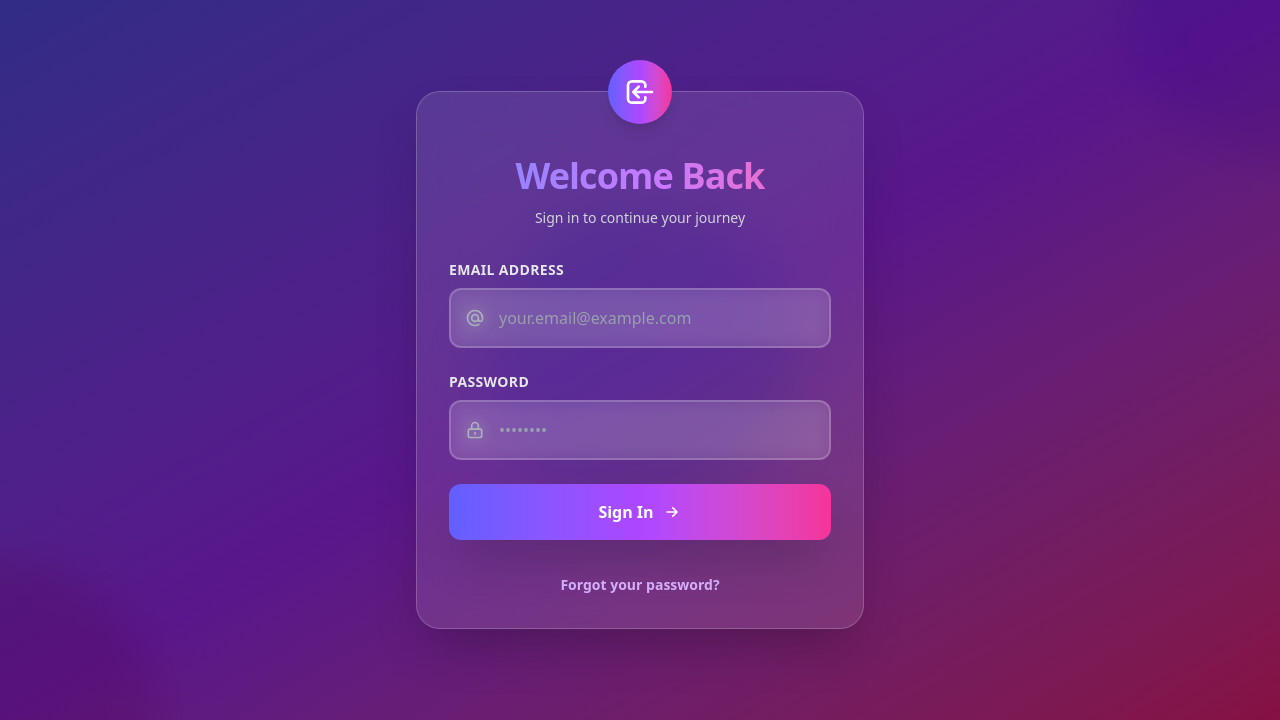
Test case: UserLogin Component › shows error message on API failure
Type "user@example.com" into the field labelled "Email Address" at (640, 318), box [449, 288, 831, 348]
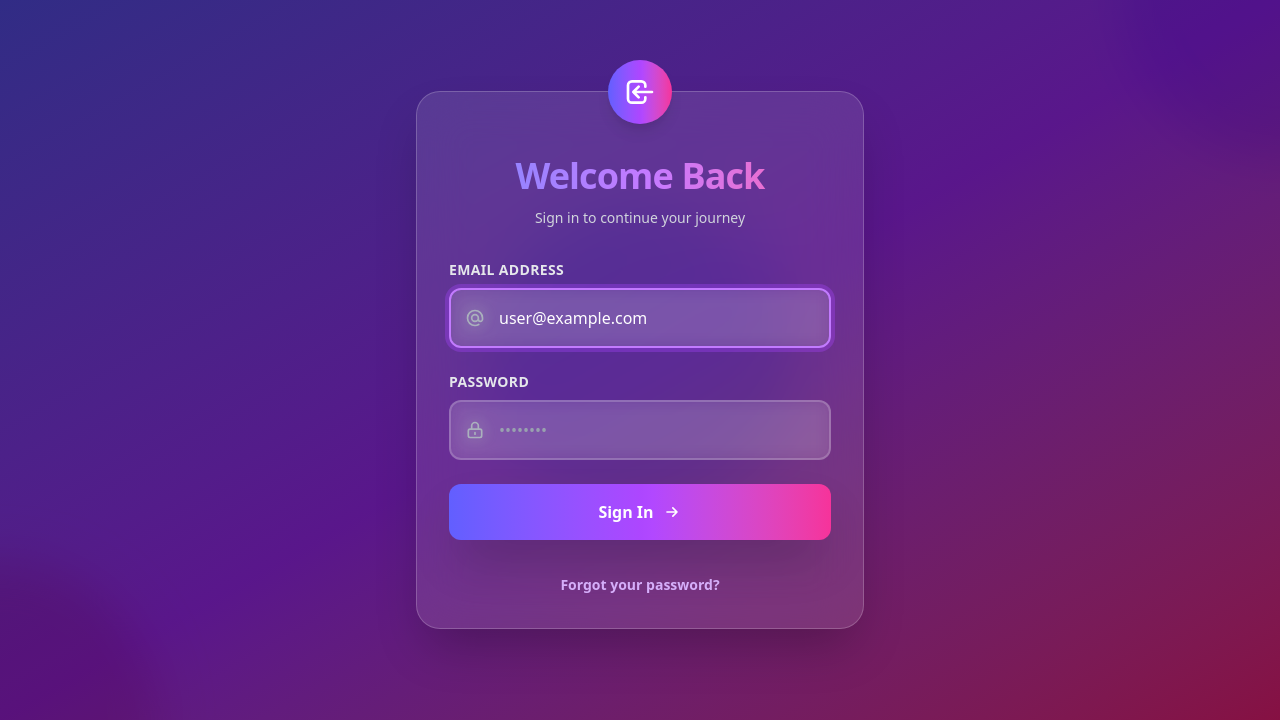
Type "wrongpassword" into the password field labelled "Password" at (640, 430), box [449, 400, 831, 460]
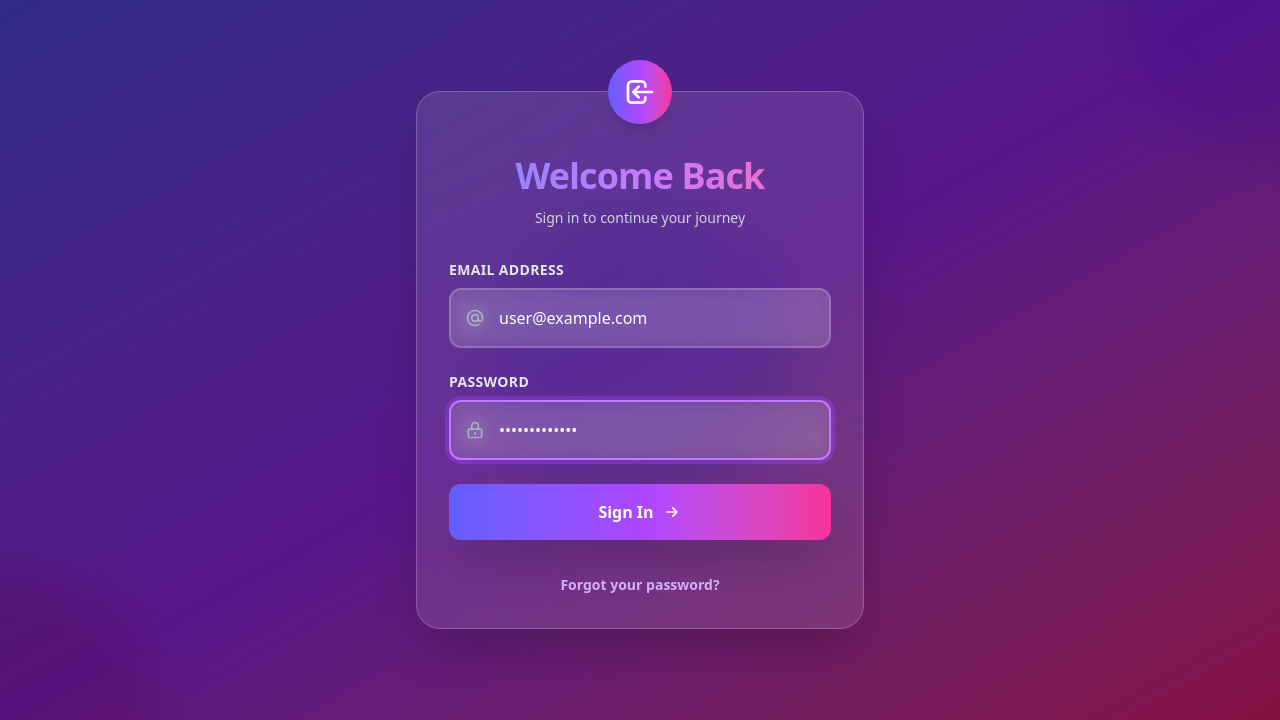
Click the button "Sign In" at (640, 512), box [449, 484, 831, 540]
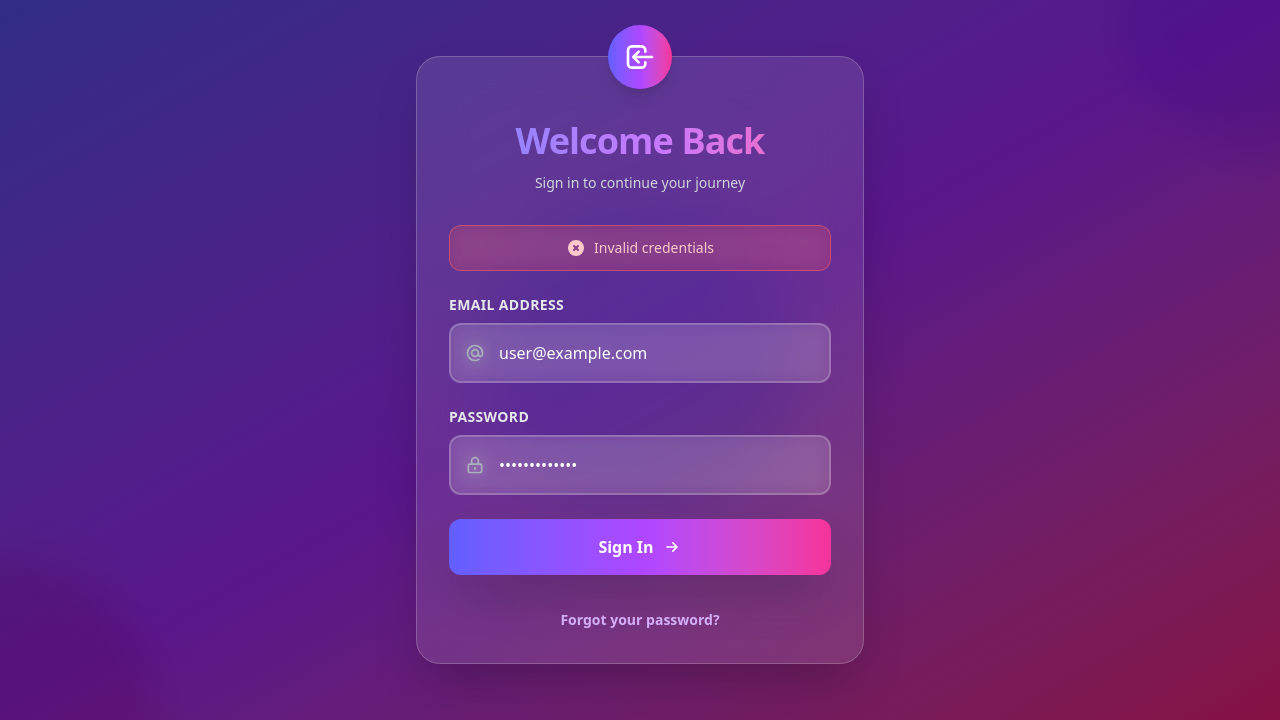
expect the text "Invalid credentials" is shown: met, box [566, 238, 714, 258]
